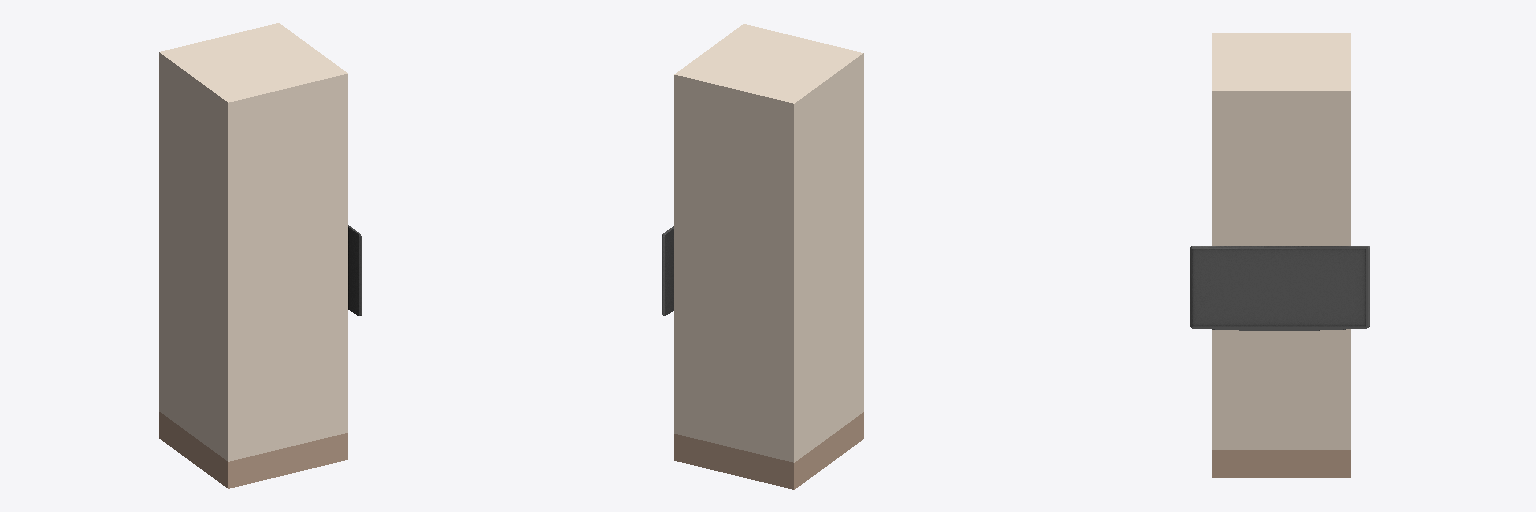
3 views of the same model, side by side, from view 1: azimuth 30°, elevation 25°; view 2: azimuth 150°, elevation 25°; view 3: azimuth 270°, elevation 25° (orthographic).
Visible parts, largest first — view 1: Cube.001, Cube.002; view 2: Cube.001, Cube.002; view 3: Cube.001, Cube.002.
Boxes of the visible parts, <box> form: Cube.001: <box>159,23,347,488</box>; Cube.002: <box>348,225,361,315</box>; Cube.001: <box>674,24,863,489</box>; Cube.002: <box>662,226,673,315</box>; Cube.001: <box>1212,33,1350,477</box>; Cube.002: <box>1190,246,1369,330</box>.
Bounding box in the file's own units: 4.11 × 12.3 × 5.2.
Materials: 2 (2 with a texture image).